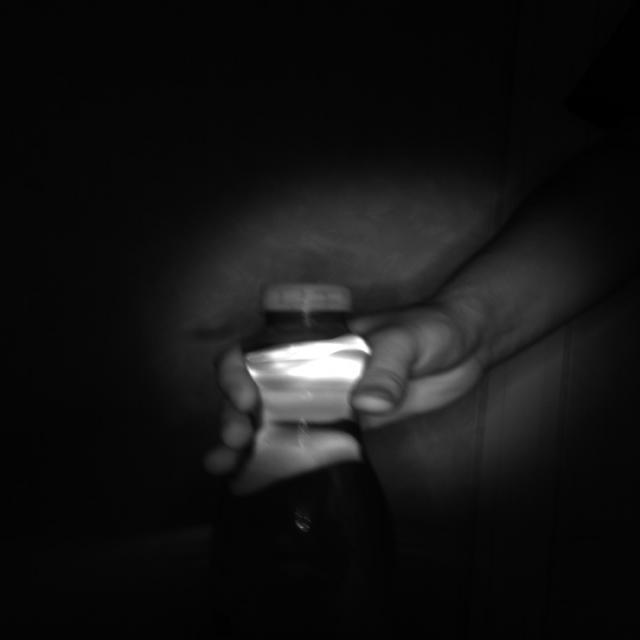Good: (261, 282, 351, 311)
